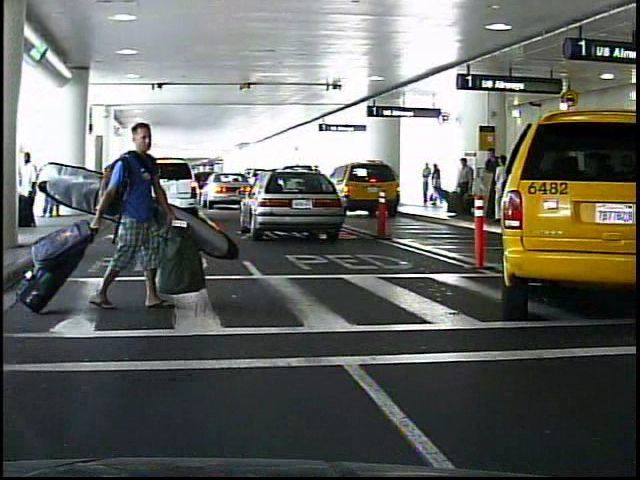person: (101, 112, 175, 331), (18, 154, 39, 232), (454, 157, 476, 220), (485, 145, 499, 215), (419, 163, 431, 208), (430, 164, 441, 208)
